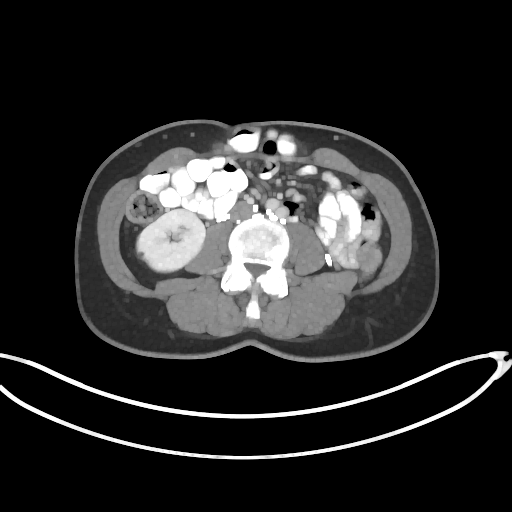Lesion: (135, 248, 146, 261)
